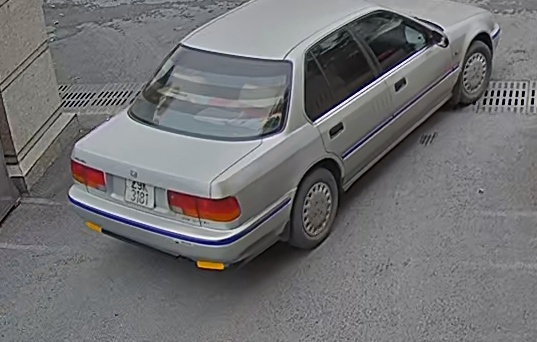vehicle plate: (121, 174, 158, 210)
